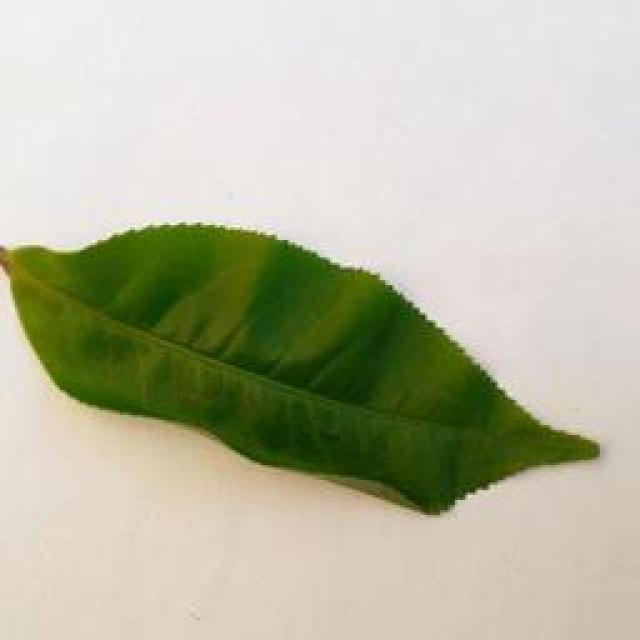Healthy: (2, 220, 604, 520)
